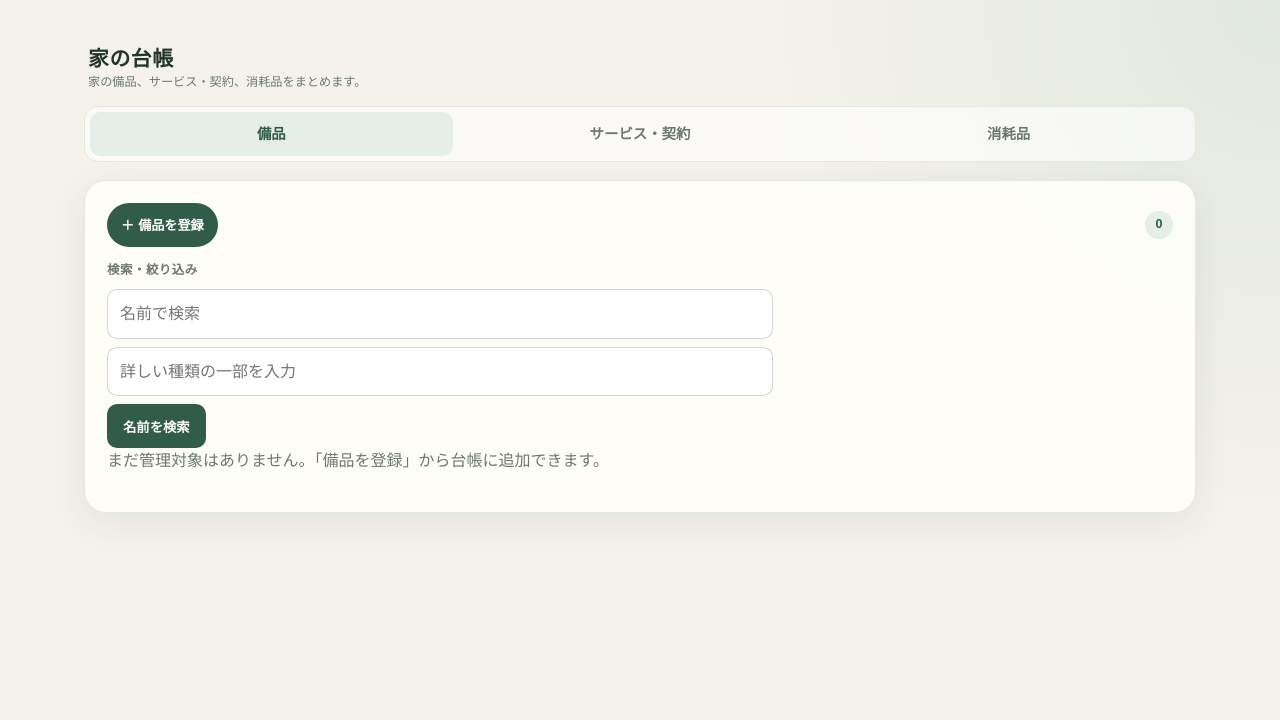
Test: 台帳一覧の自由入力(詳しい種類)候補・絞り込み(ManagedItemsPage、Issue #238) › 家庭内で使われている自由入力の候補を、入力に一致したとき表示する
Type "かご" into the search field labelled "詳しい種類の一部を入力" at (440, 372), box [107, 347, 773, 396]
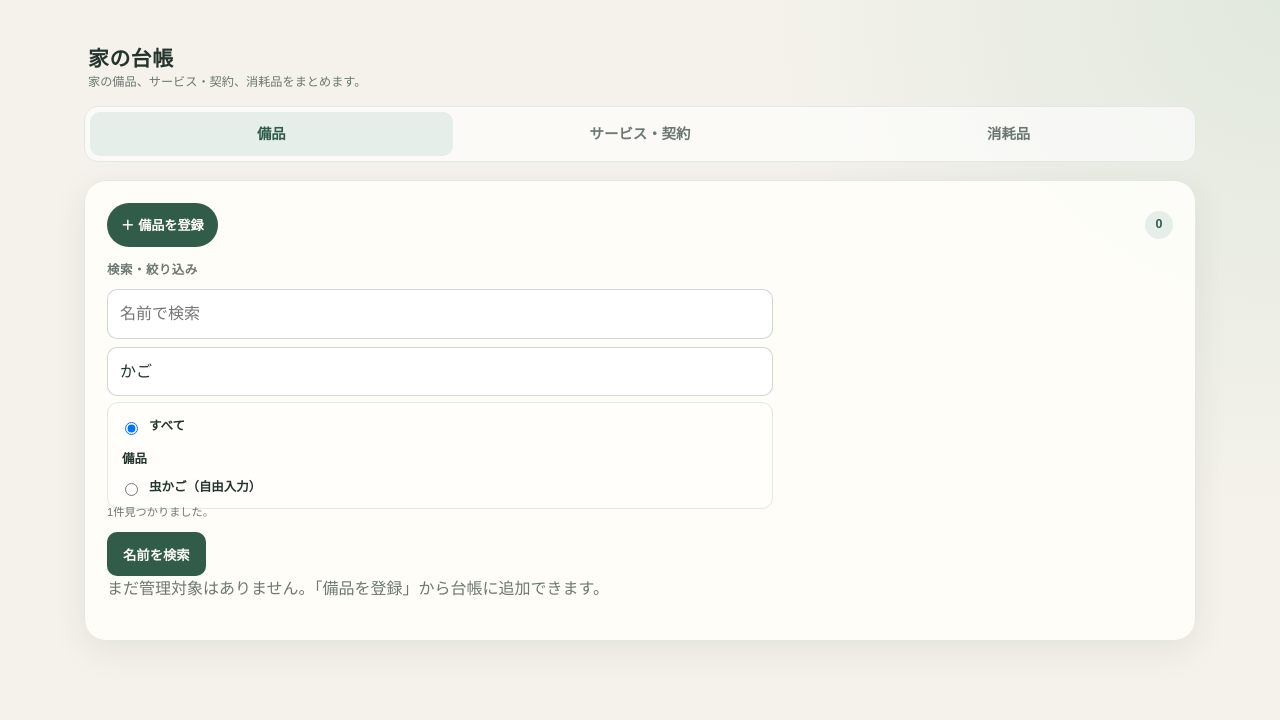
Now the radio button labelled "虫かご（自由入力）" is shown, box [125, 483, 138, 496]
